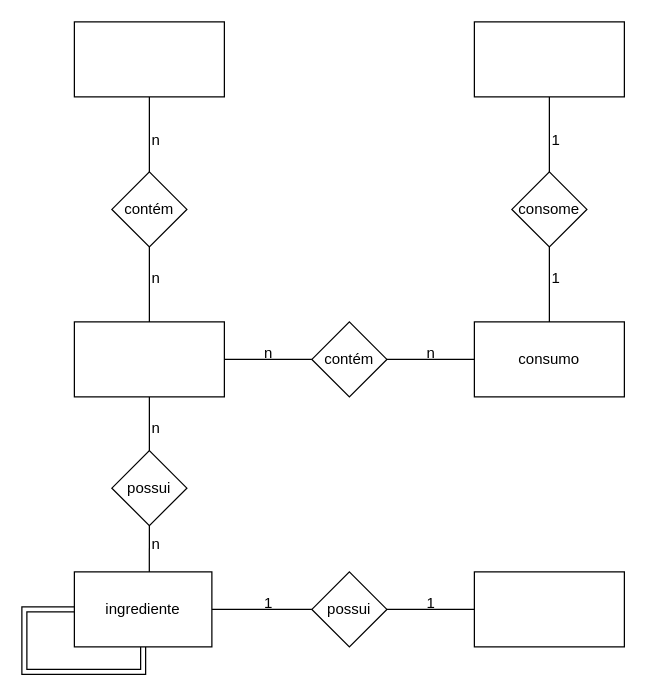
This 646x696 diagram has some shape labels left out. Here are the shapes that lost their labels. From the top down, the centre of each, then its label:
At point 148,59: "cardápio".
At point 548,59: "aluno".
At point 148,359: "refeição".
At point 548,609: "tabela nutricional".
